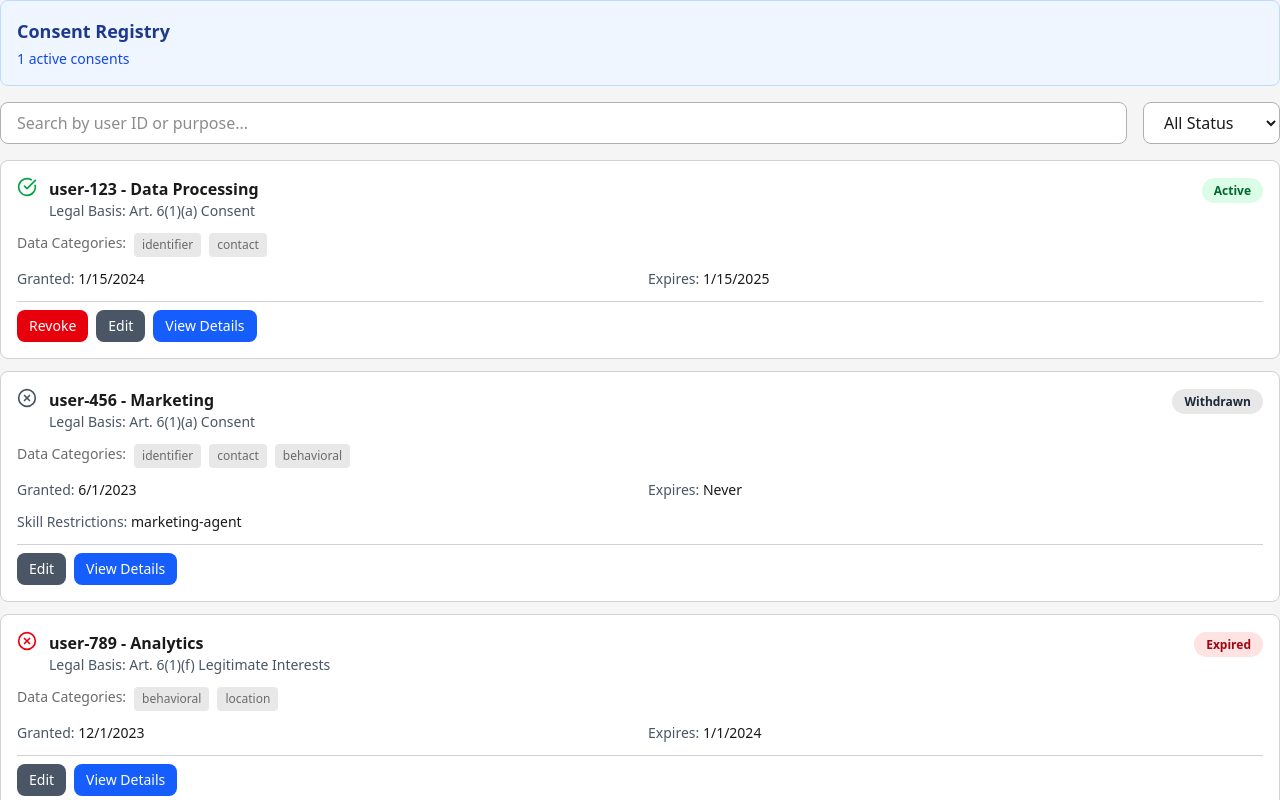
Test: ConsentRegistry › Filtering › shows "no results" message when no consents match filters
The image size is (1280, 800).
In the field with placeholder "Search by user ID or purpose...": (564, 123) 0,102 -> 1127,144, type "nonexistent"
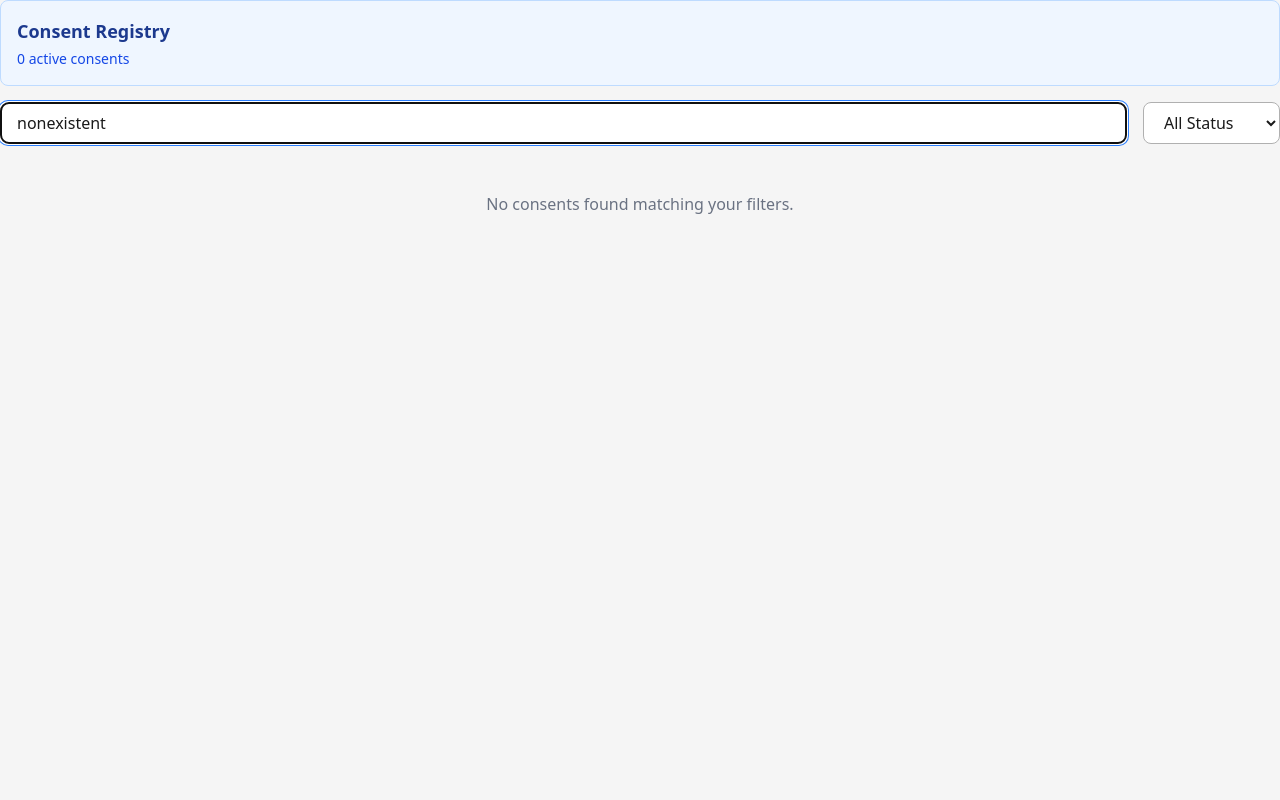
Expected: the text "No consents found matching your filters." is shown, 486,193 -> 794,215
